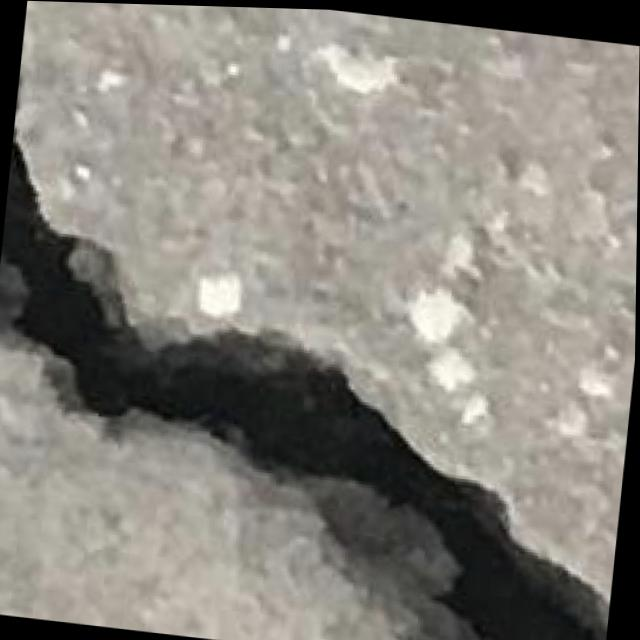Crack: (0, 131, 638, 640)
